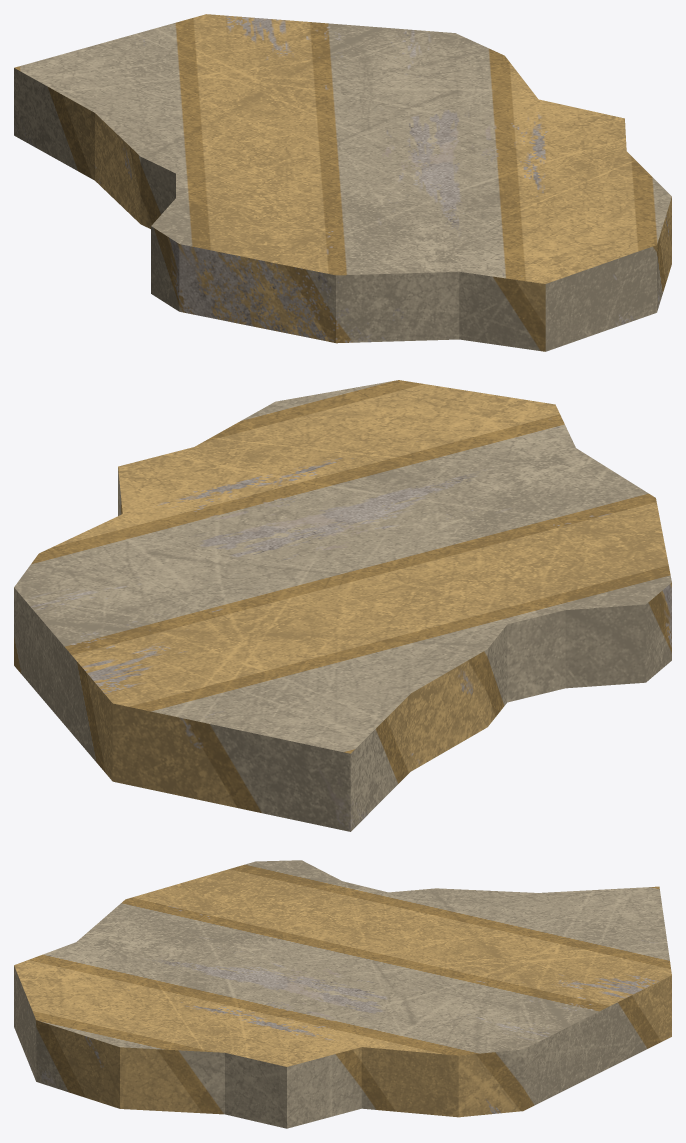
The model's file is SM_Rubbish_01.fbx.
3 views of the same model, one above another, from view 1: azimuth 30°, elevation 25°; view 2: azimuth 150°, elevation 25°; view 3: azimuth 270°, elevation 25° (orthographic). The views are drawn at different scales.
Parts seen in each view (by area): view 1: SM_Rubbish_01; view 2: SM_Rubbish_01; view 3: SM_Rubbish_01.
Boxes of the visible parts, <box> form: SM_Rubbish_01: <box>14,14,671,351</box>; SM_Rubbish_01: <box>14,380,671,831</box>; SM_Rubbish_01: <box>14,860,671,1128</box>.
Bounding box in the file's own units: 69.41 × 9.65 × 93.32.
